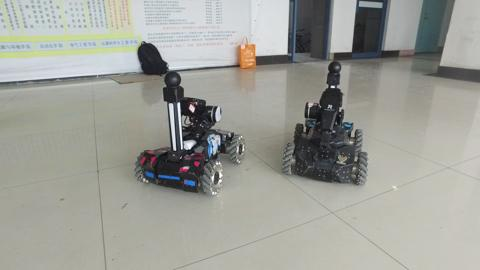chariot: (128, 64, 246, 206), (279, 54, 376, 189)
